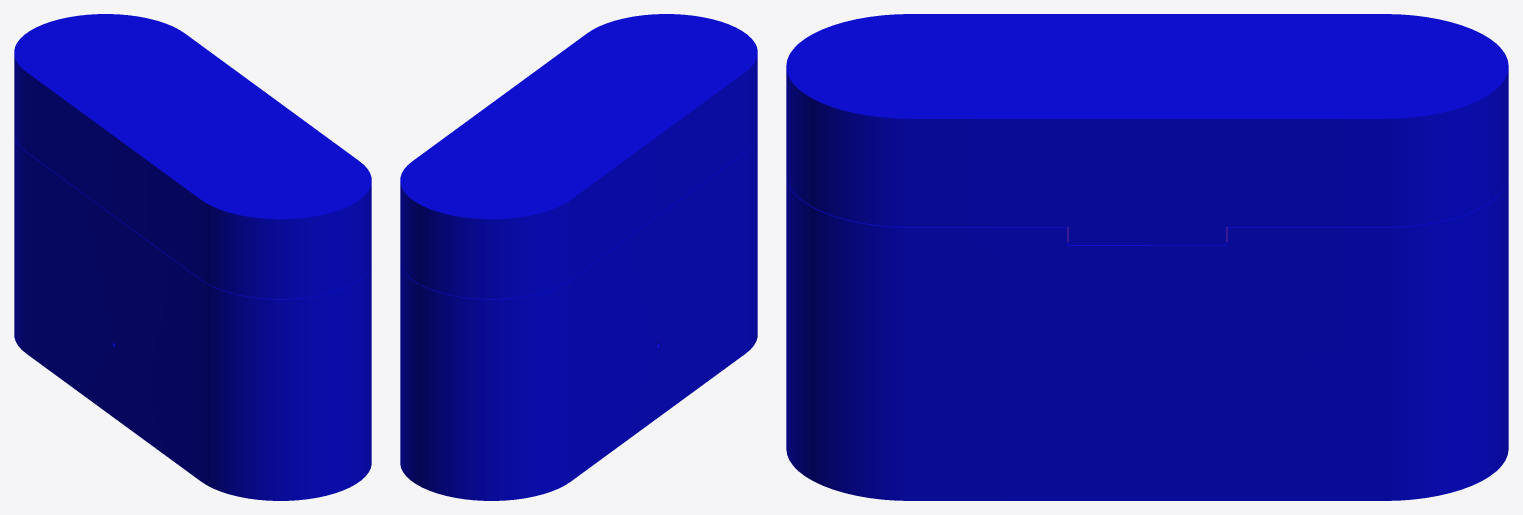
The model's file is tws_threejs_previous.glb.
3 views of the same model, side by side, from view 1: azimuth 30°, elevation 25°; view 2: azimuth 150°, elevation 25°; view 3: azimuth 270°, elevation 25° (orthographic). The views are drawn at different scales.
Parts seen in each view (by area): view 1: chargingcase, chargingcase_lid; view 2: chargingcase, chargingcase_lid; view 3: chargingcase, chargingcase_lid.
Boxes of the visible parts, <box> form: chargingcase: <box>14,136,371,500</box>; chargingcase_lid: <box>14,14,371,298</box>; chargingcase: <box>400,136,757,500</box>; chargingcase_lid: <box>400,14,757,298</box>; chargingcase: <box>786,176,1508,500</box>; chargingcase_lid: <box>786,14,1508,245</box>.
Size of the model in its own units: 0.0317 by 0.054 by 0.0924.
